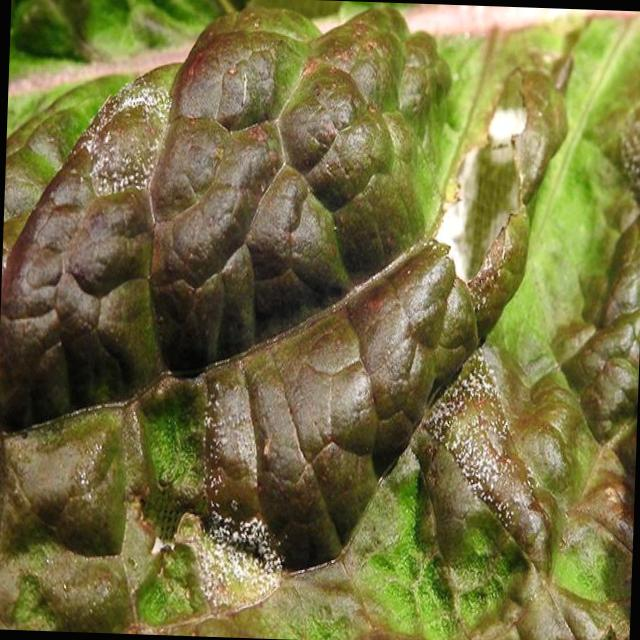Powdery_mildew: (164, 488, 317, 630), (438, 380, 558, 549), (74, 77, 182, 233)
